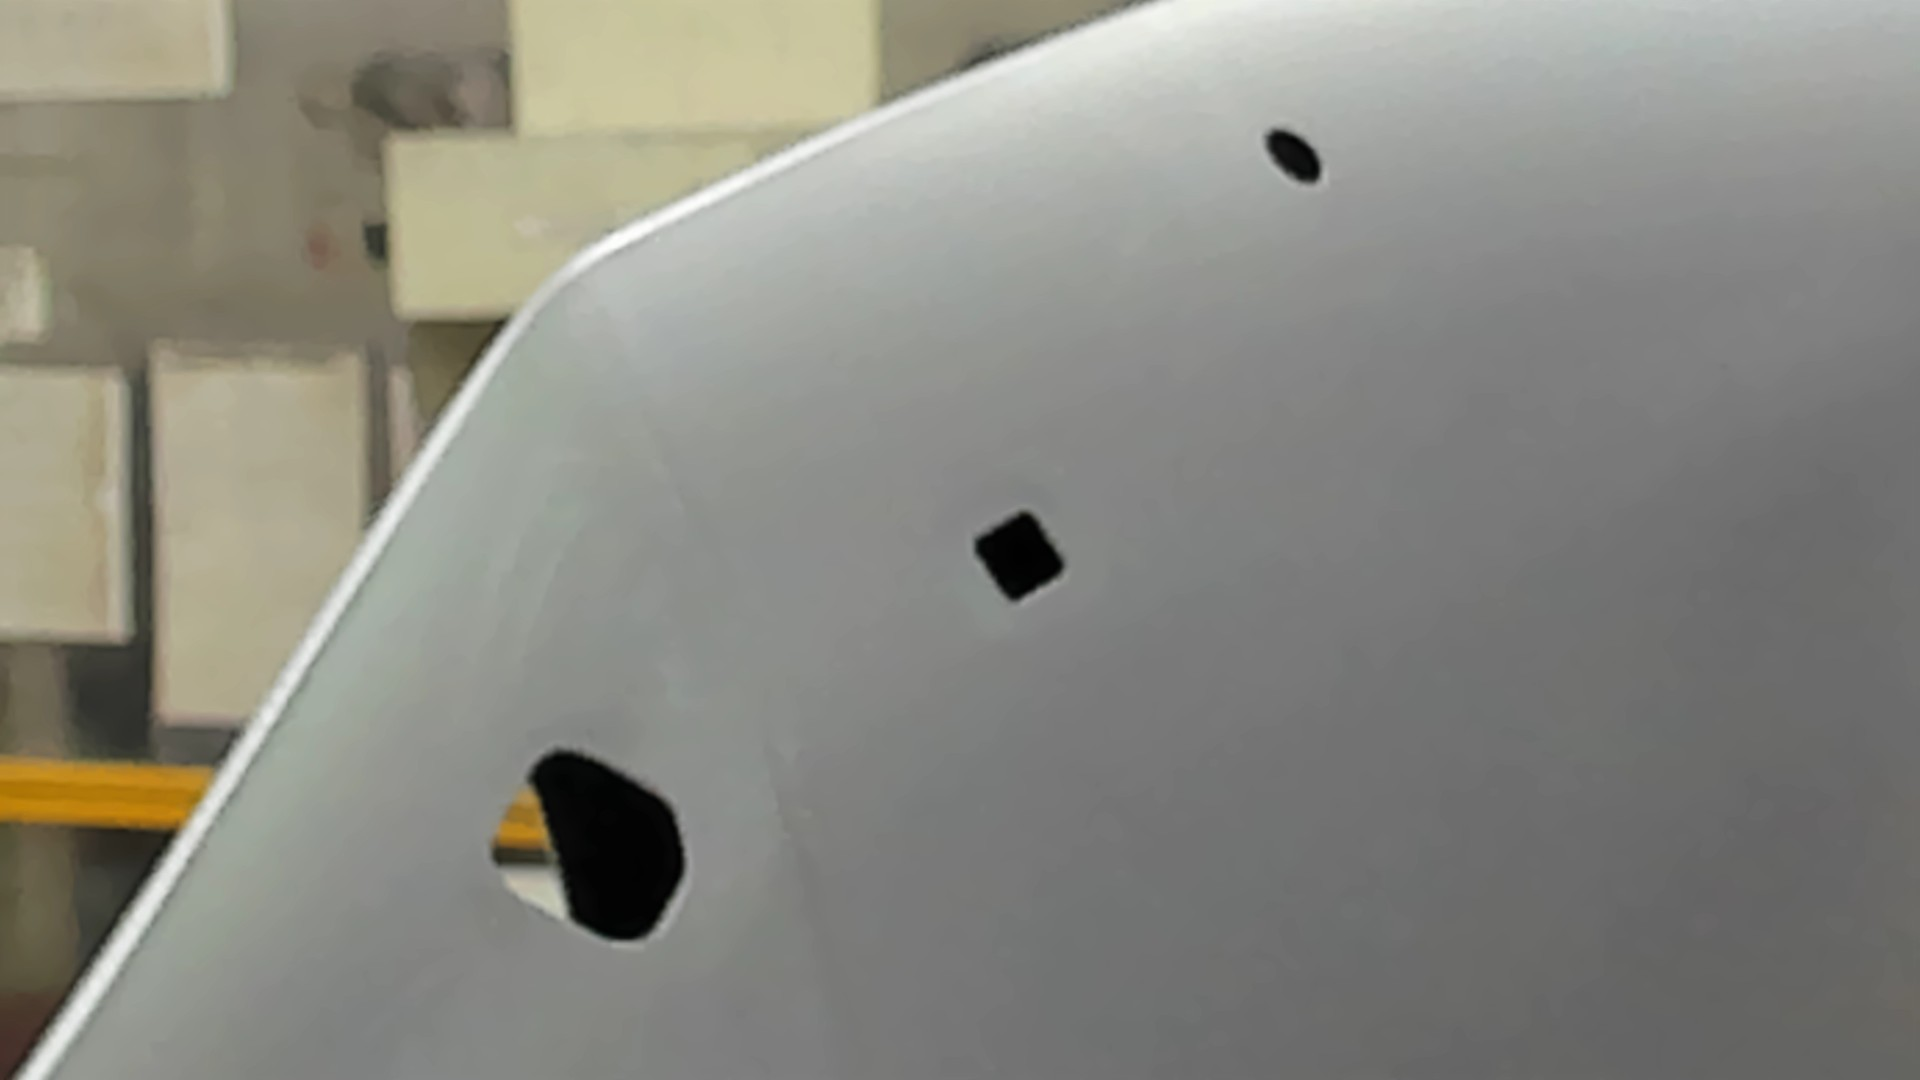chico: (1255, 123, 1332, 191)
grande: (483, 740, 700, 961)
mediano: (968, 505, 1069, 609)
